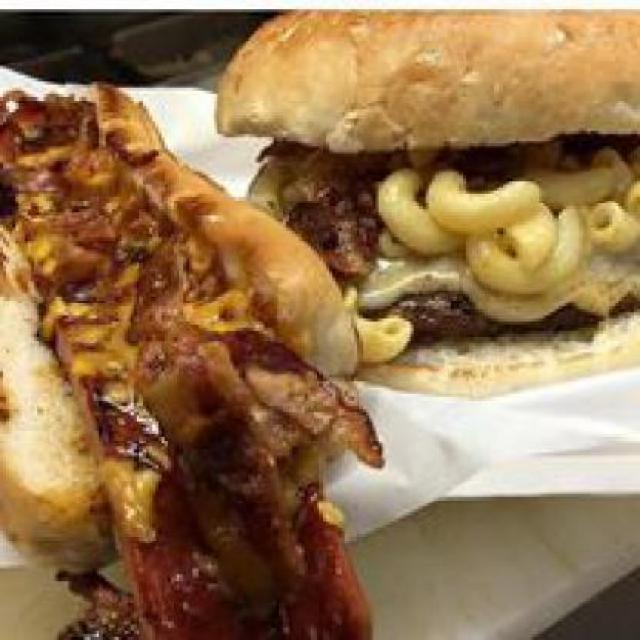hot dog: (118, 418, 388, 637)
